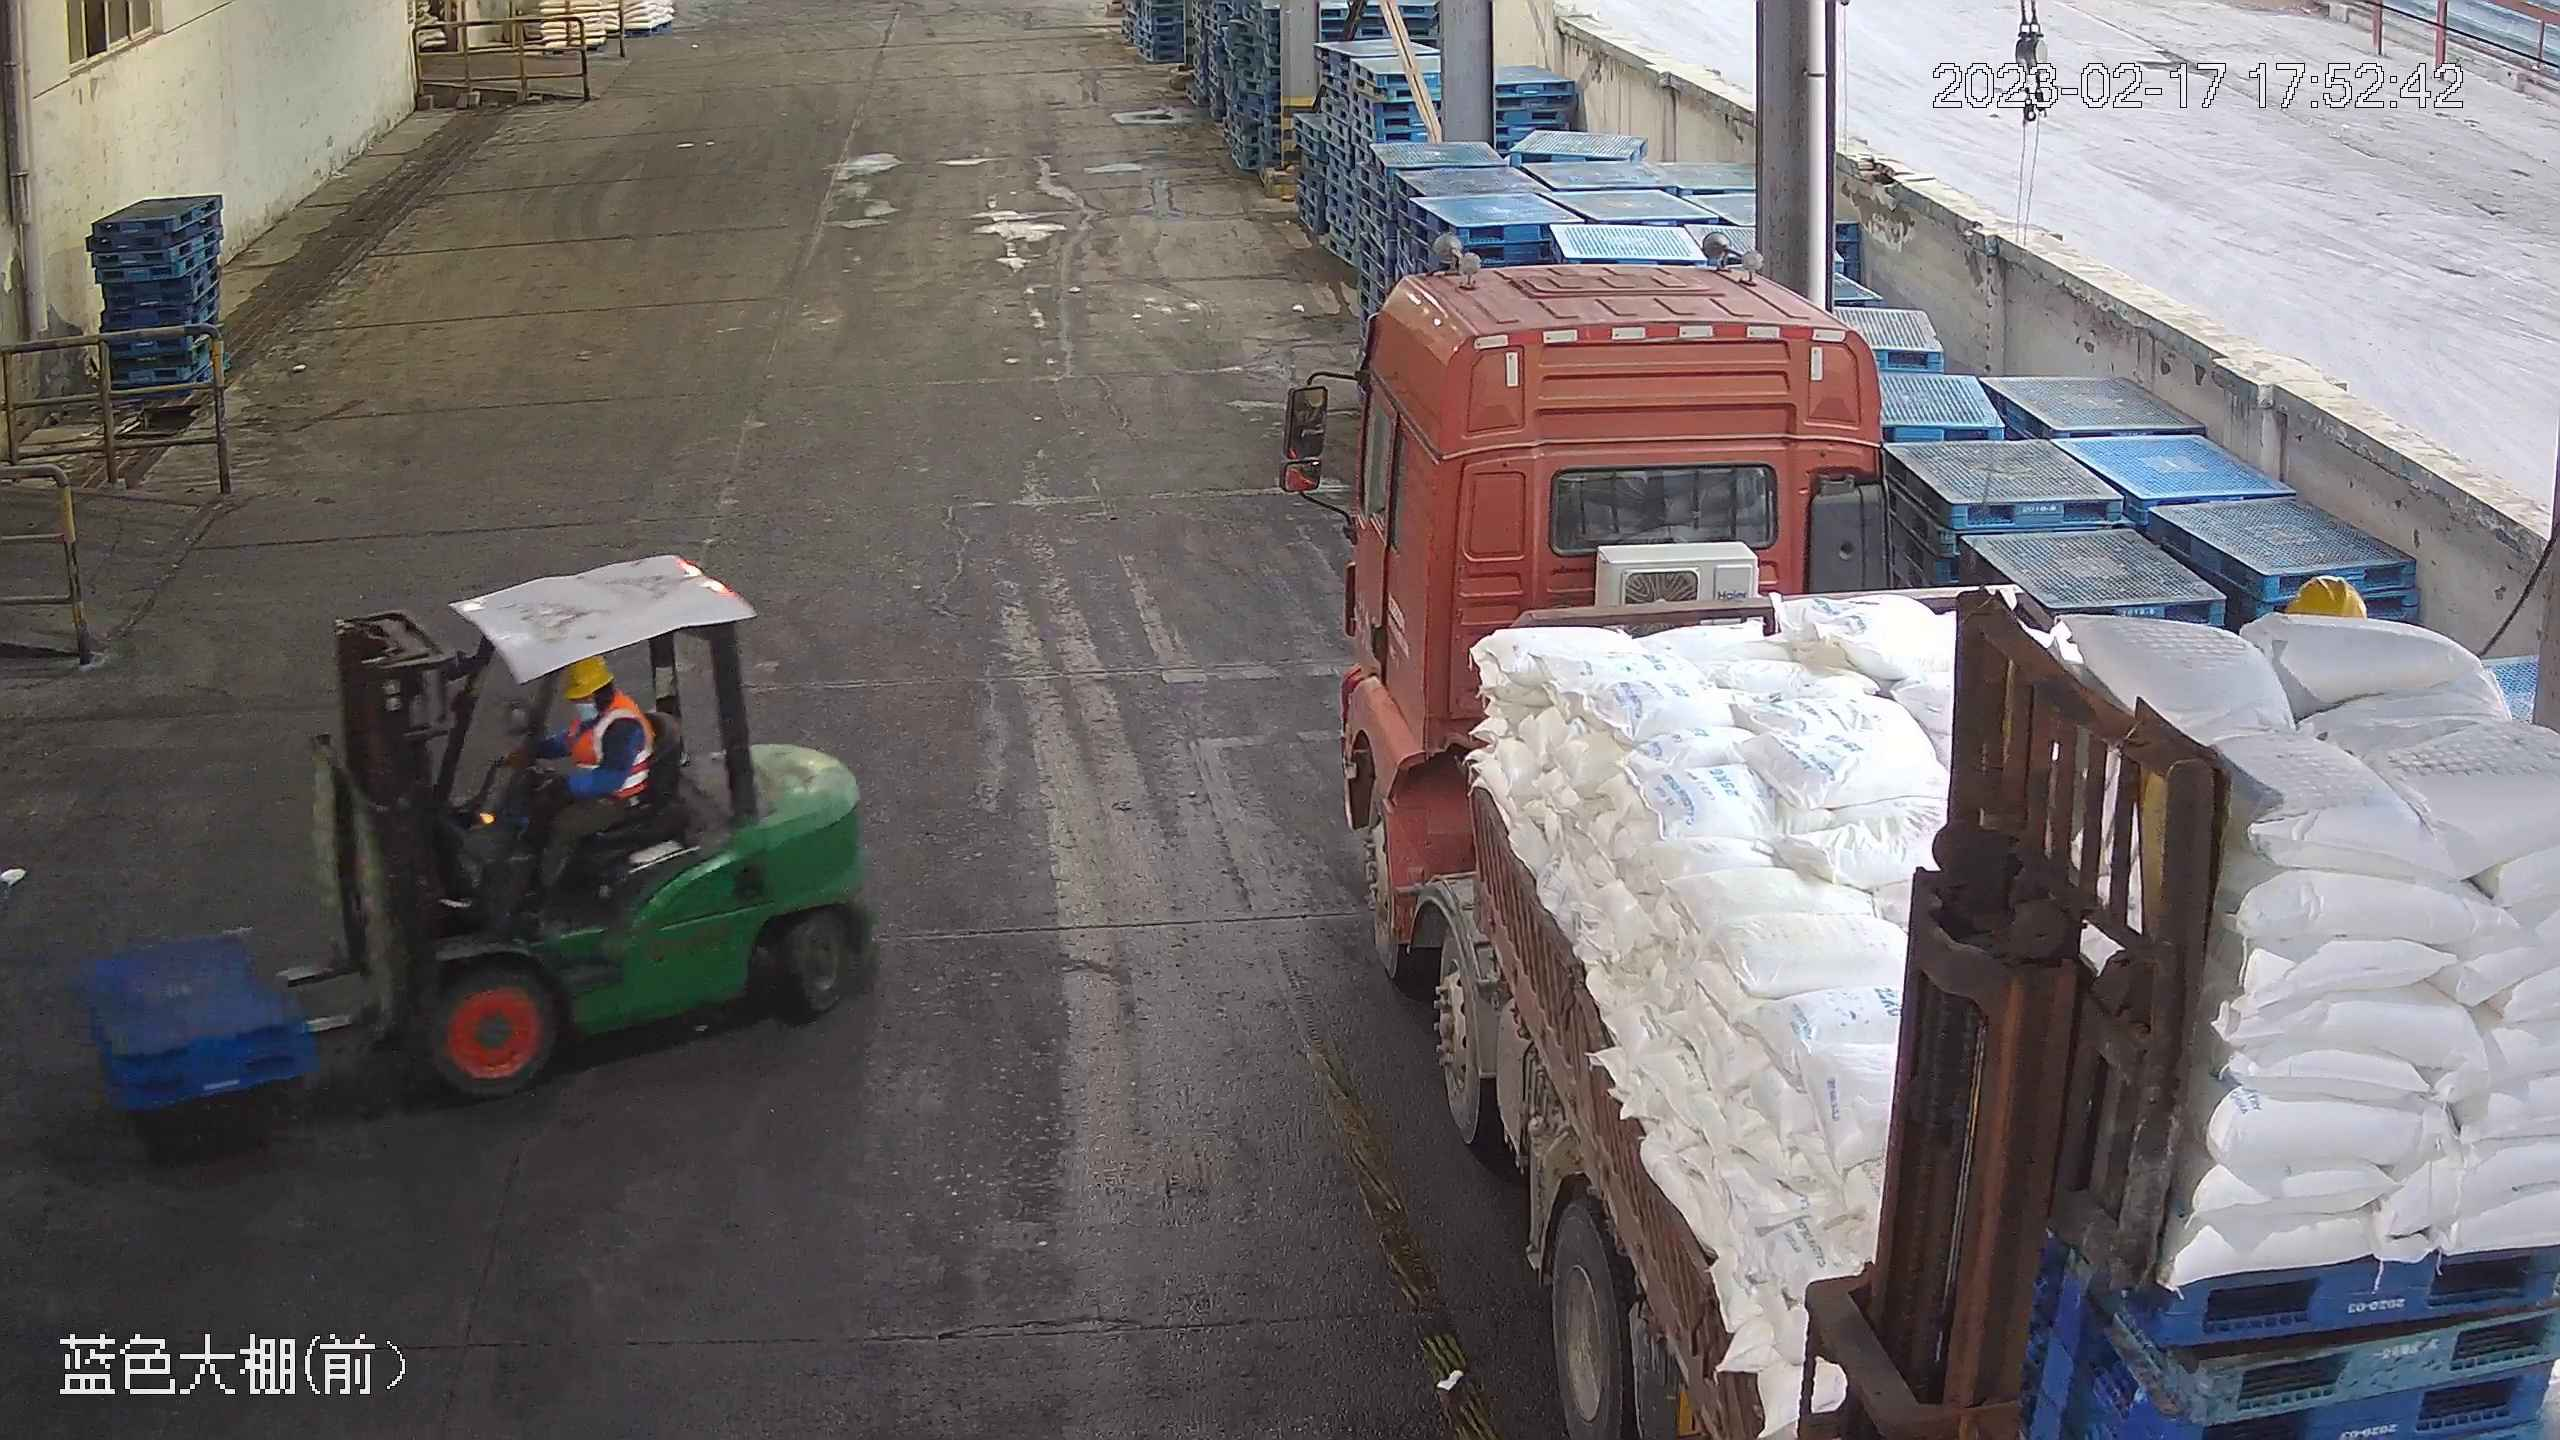head: (552, 652, 651, 747)
helmet: (2277, 575, 2372, 622), (562, 654, 614, 696)
people: (506, 649, 662, 914)
truck: (1275, 233, 2560, 1440)
